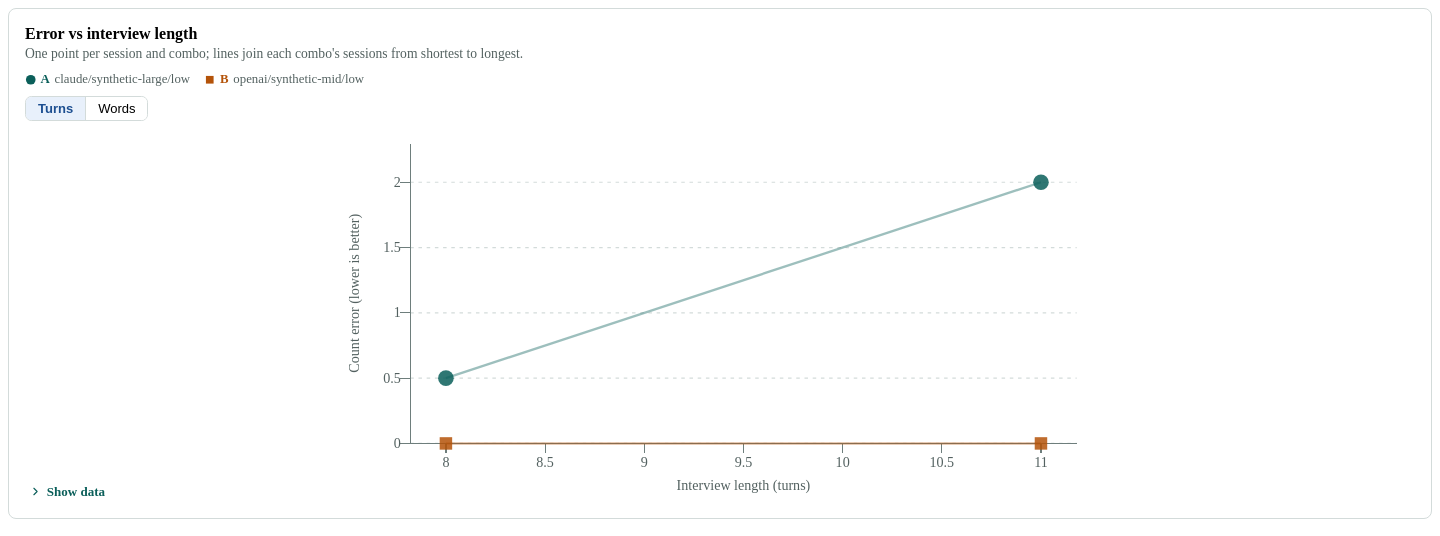
Scenario: switches the x values between Turns and Words
Step 1. Click the button "Words" → click(117, 109), box [86,97,148,120]
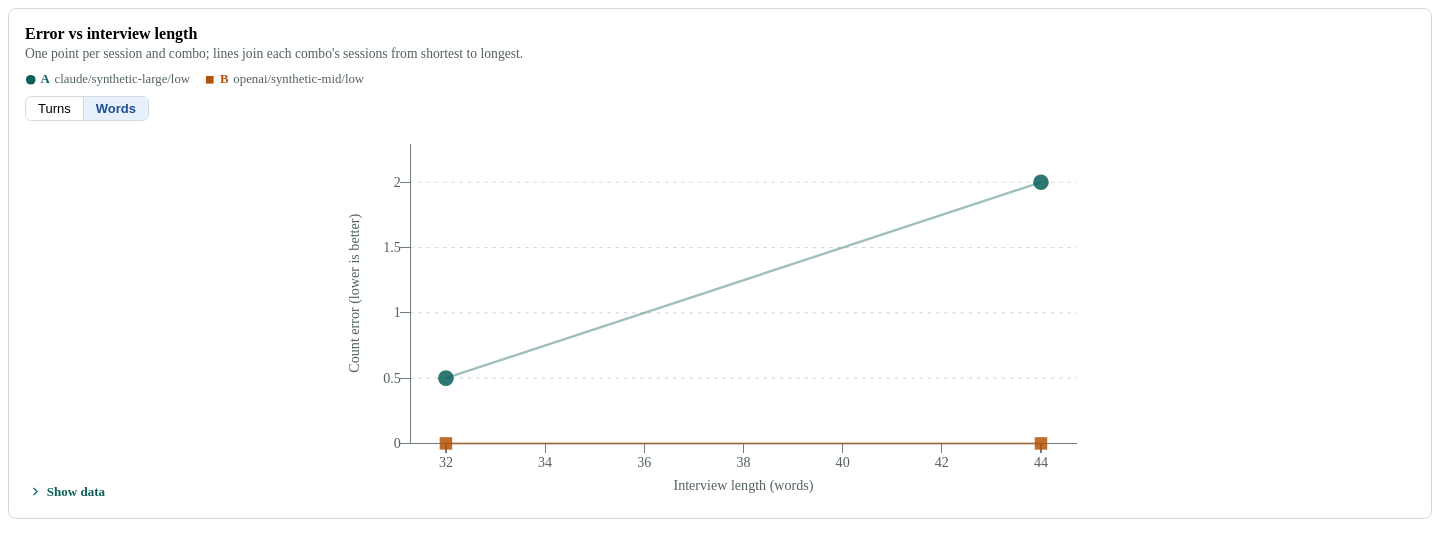
Expected: the button "Words" is pressed, [84,97,148,120]
